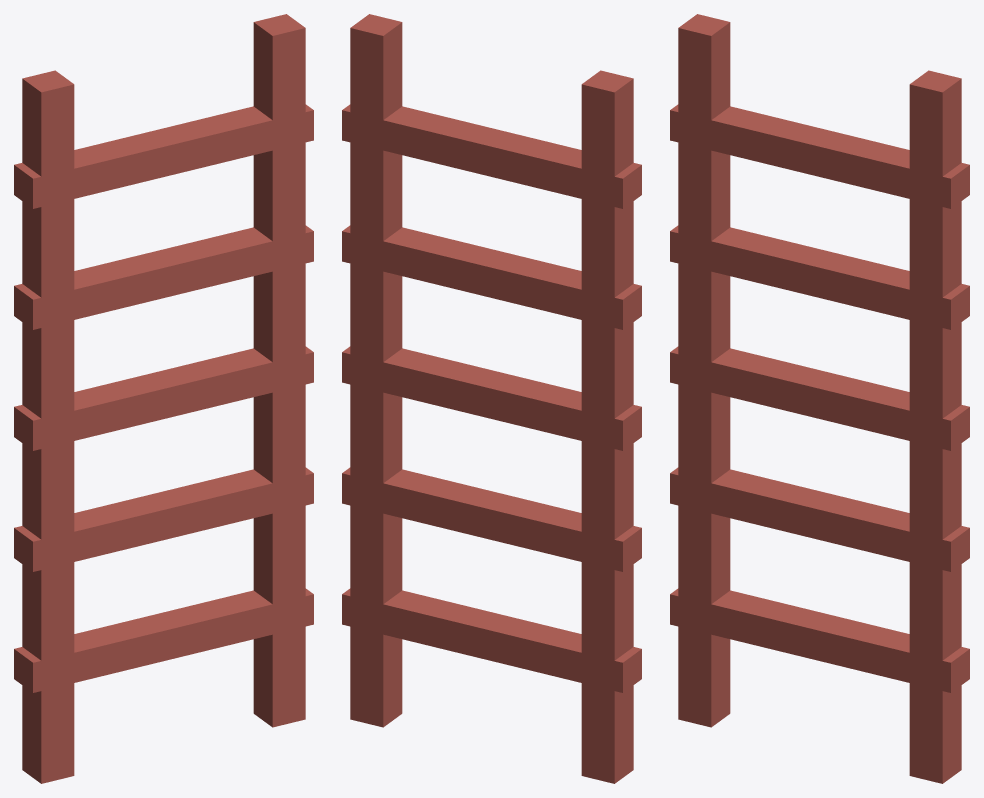
The model's file is ladder.obj.
The picture shows the model from 3 angles, left to right: view 1: azimuth 30°, elevation 25°; view 2: azimuth 150°, elevation 25°; view 3: azimuth 330°, elevation 25°; orthographic projection.
Parts seen in each view (by area): view 1: left-ladder-rail, right-ladder-rail, ladder-rung-4, ladder-rung-2, ladder-rung-5, ladder-rung-3, ladder-rung-1; view 2: left-ladder-rail, right-ladder-rail, ladder-rung-4, ladder-rung-2, ladder-rung-5, ladder-rung-3, ladder-rung-1; view 3: left-ladder-rail, right-ladder-rail, ladder-rung-4, ladder-rung-2, ladder-rung-5, ladder-rung-3, ladder-rung-1.
Part boxes in pixels (box(x1,y1,x2,y2)): left-ladder-rail: box(22, 70, 74, 783); right-ladder-rail: box(253, 14, 305, 727); ladder-rung-4: box(14, 225, 313, 329); ladder-rung-2: box(14, 467, 313, 571); ladder-rung-5: box(14, 104, 313, 208); ladder-rung-3: box(14, 346, 313, 450); ladder-rung-1: box(14, 588, 313, 692); left-ladder-rail: box(581, 70, 633, 783); right-ladder-rail: box(350, 14, 402, 727); ladder-rung-4: box(342, 225, 641, 329); ladder-rung-2: box(342, 467, 641, 571); ladder-rung-5: box(342, 104, 641, 208); ladder-rung-3: box(342, 346, 641, 450); ladder-rung-1: box(342, 588, 641, 692); left-ladder-rail: box(678, 14, 730, 727); right-ladder-rail: box(909, 70, 961, 783); ladder-rung-4: box(670, 225, 969, 329); ladder-rung-2: box(670, 467, 969, 571); ladder-rung-5: box(670, 104, 969, 208); ladder-rung-3: box(670, 346, 969, 450); ladder-rung-1: box(670, 588, 969, 692).
Size of the model in its own units: 0.68 by 1.6 by 0.08.
